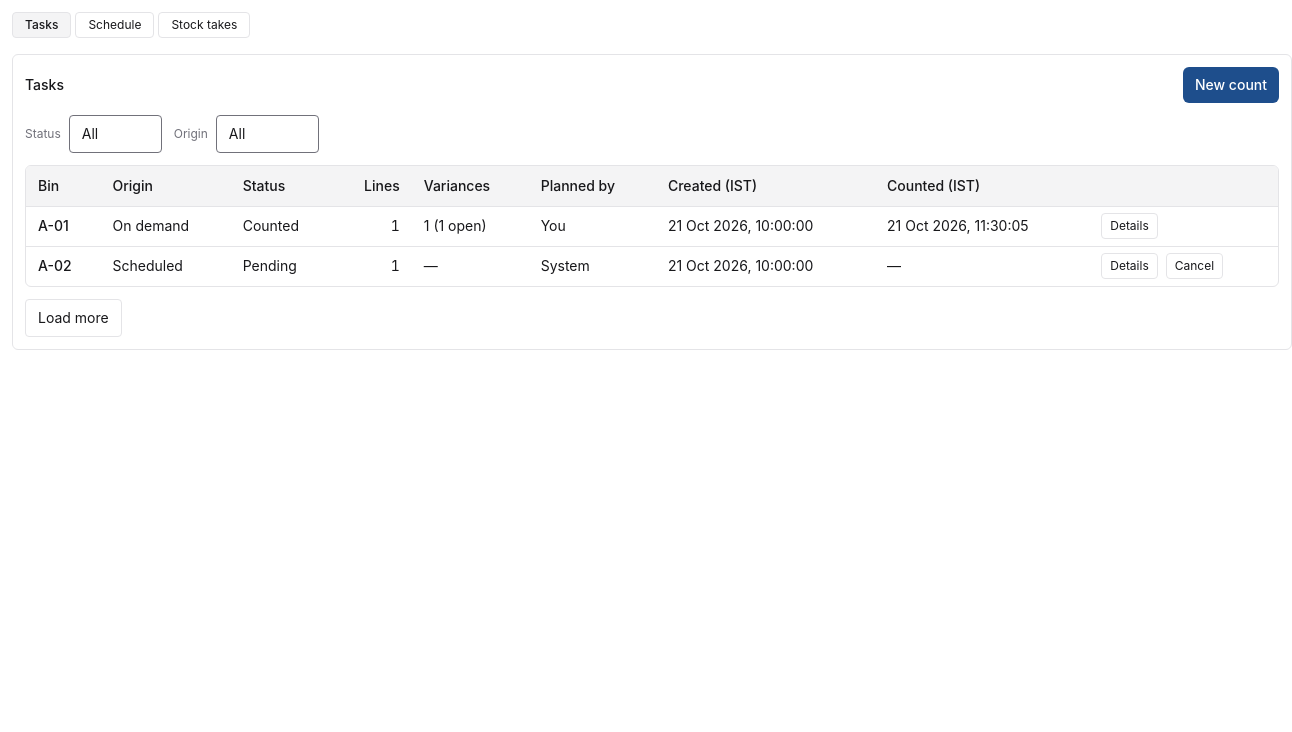
Scenario: New count › a zone with more than 500 countable bins is offered disabled, with the reason
The image size is (1292, 732).
Click the button "New count": (1231,85) [1183,67,1279,103]
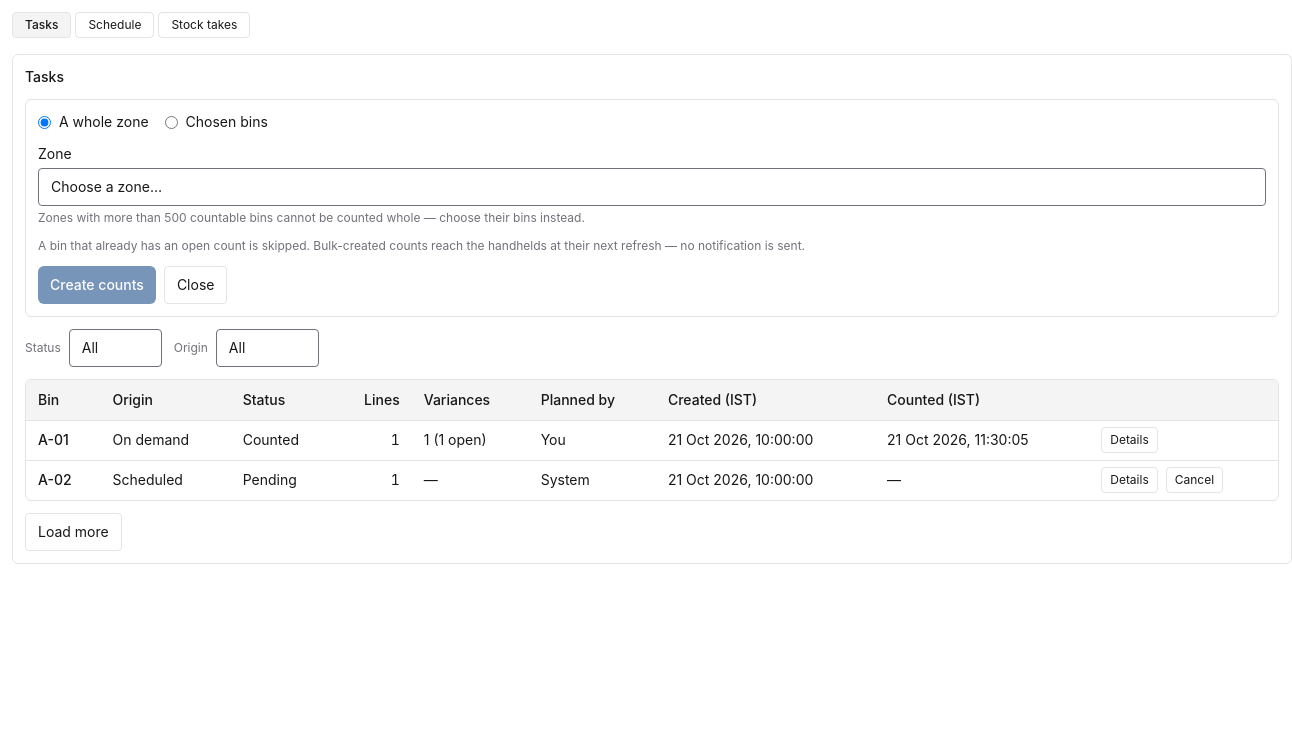
Expected: the text "Zones with more than 500 countable bins cannot be counted whole — choose their bins instead." is shown, [38,210,585,225]
